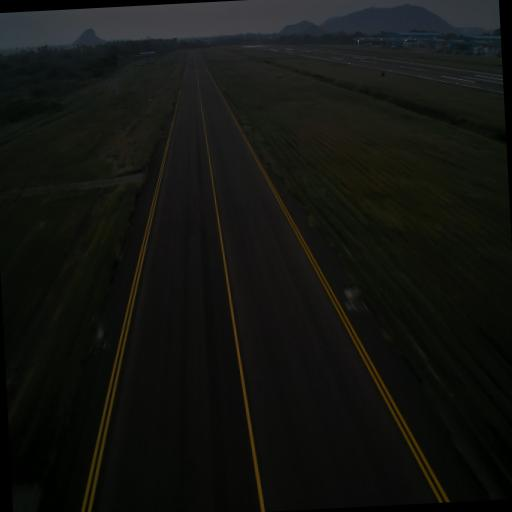on: (95, 321, 104, 338), (346, 284, 353, 296)
